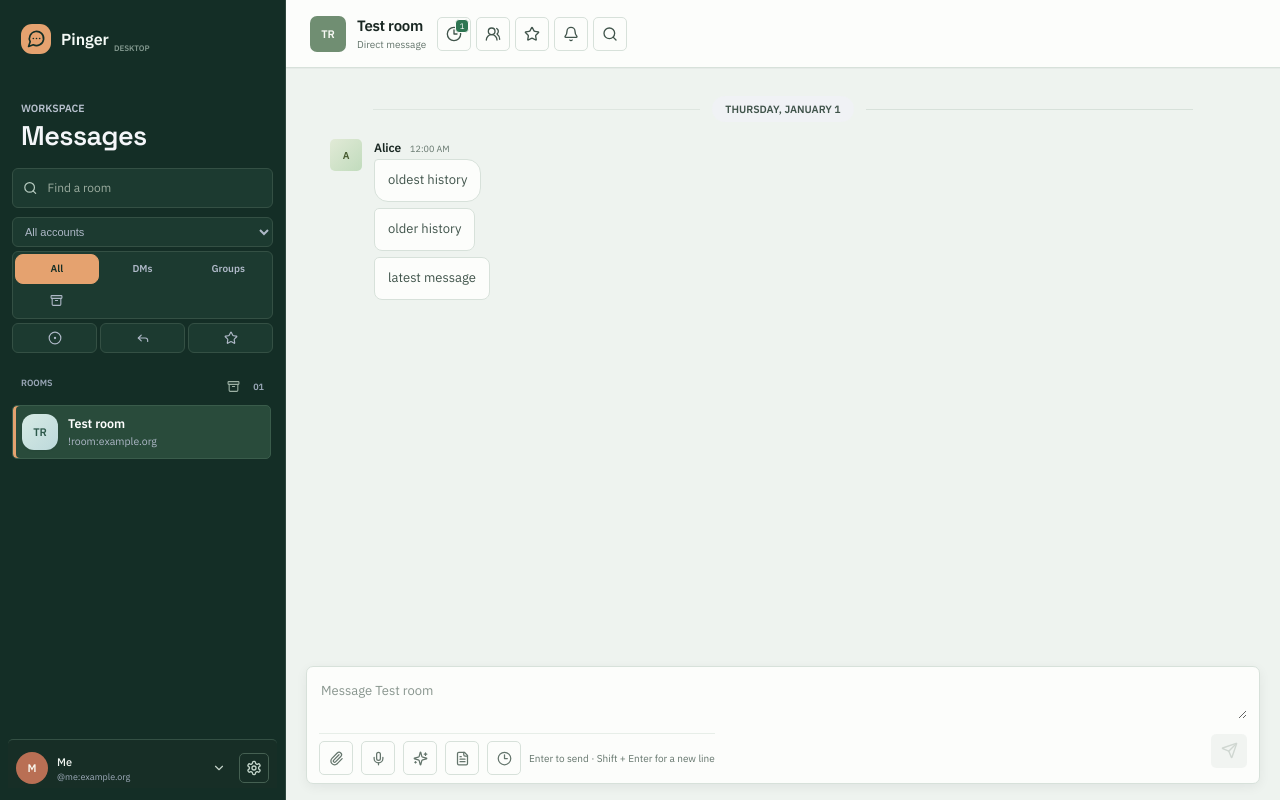
Test: room history updates › switches the active Matrix account and loads its rooms
Check: the text "latest message" is shown, box [388,268,476,288]
Check: the text "1" is shown, box [455,18,469,32]
Click the button with aria-label "Manage Matrix accounts": (124, 768) [16,752,232,784]
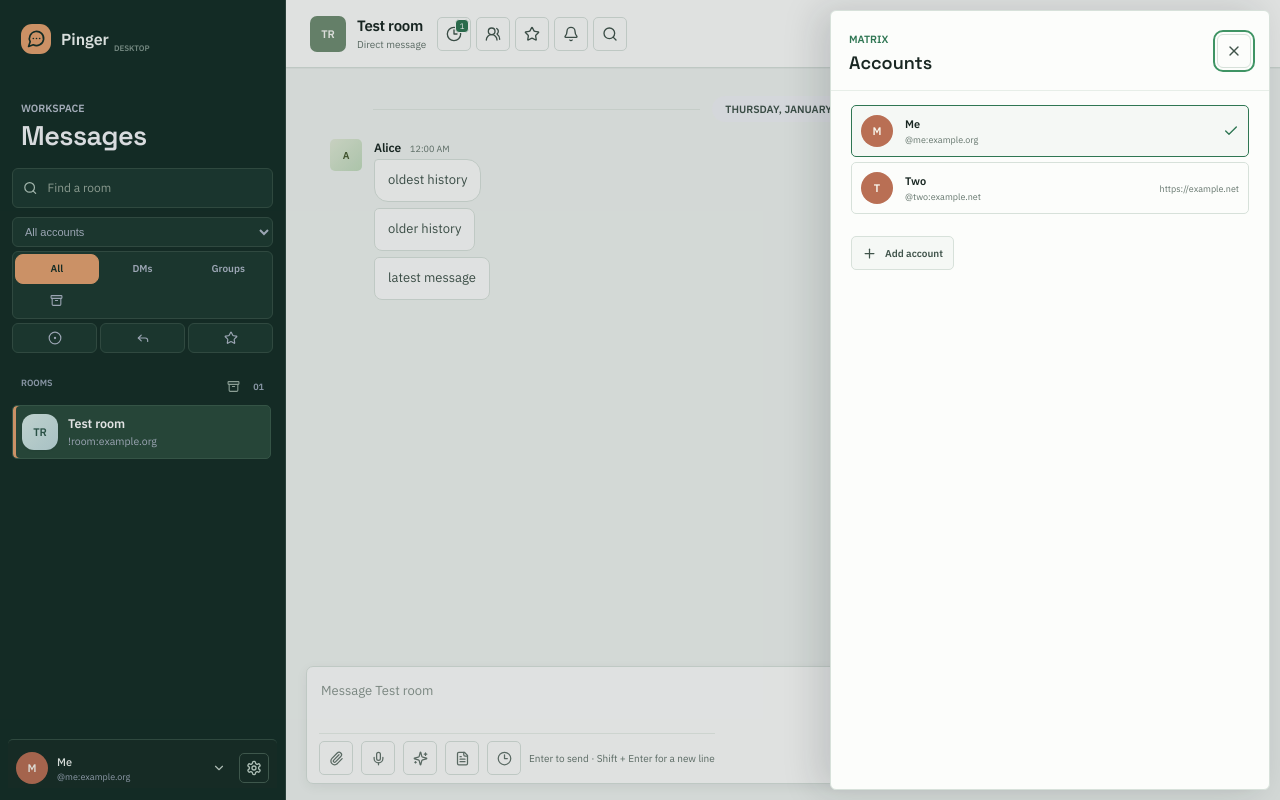
Click the button "T Two @two:example.net https://example.net": (877, 188) [851,162,1249,214]
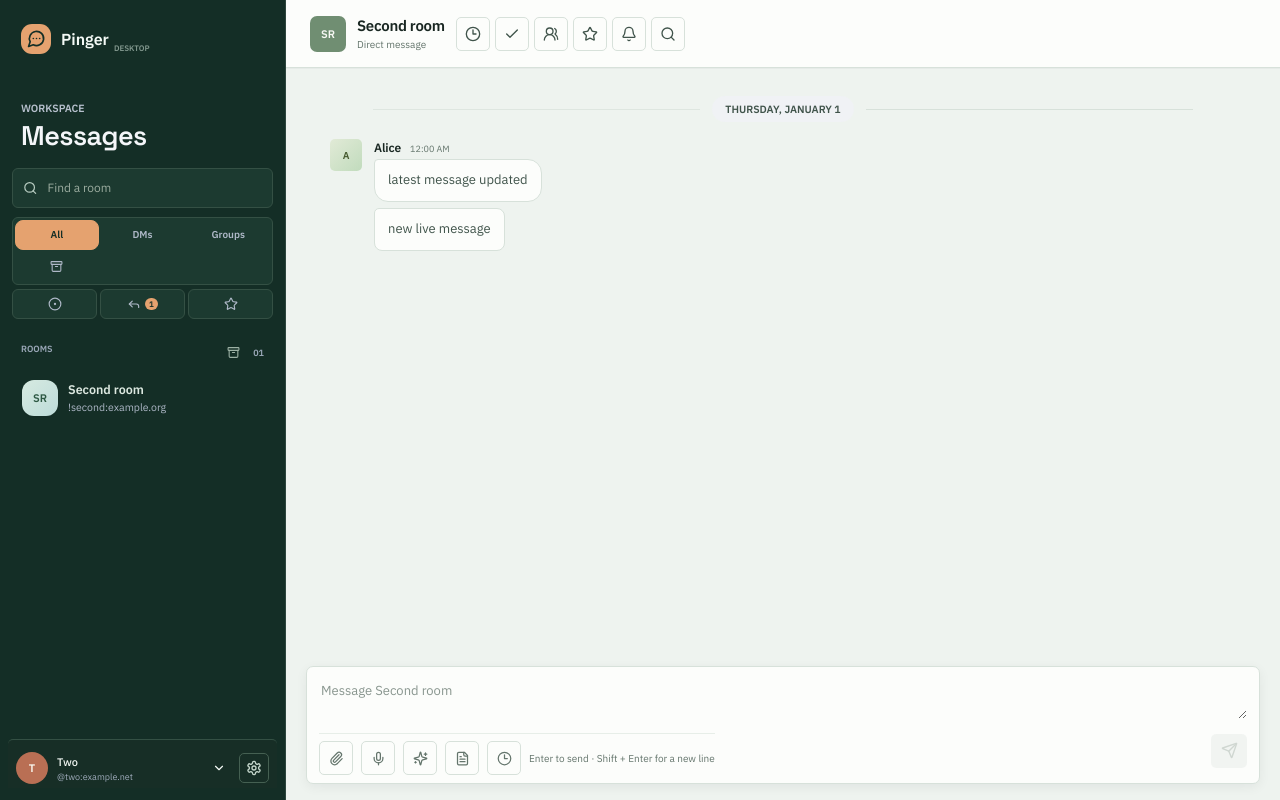
Check: the text "@two:example.net" is shown, box [57,770,133,782]
